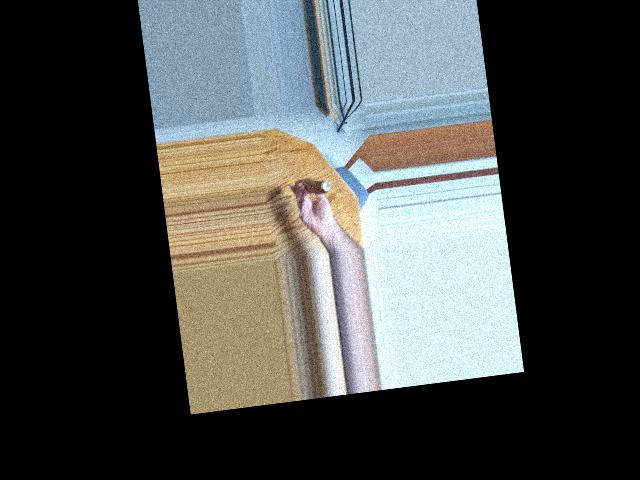sweet_potato: (292, 173, 338, 206)
